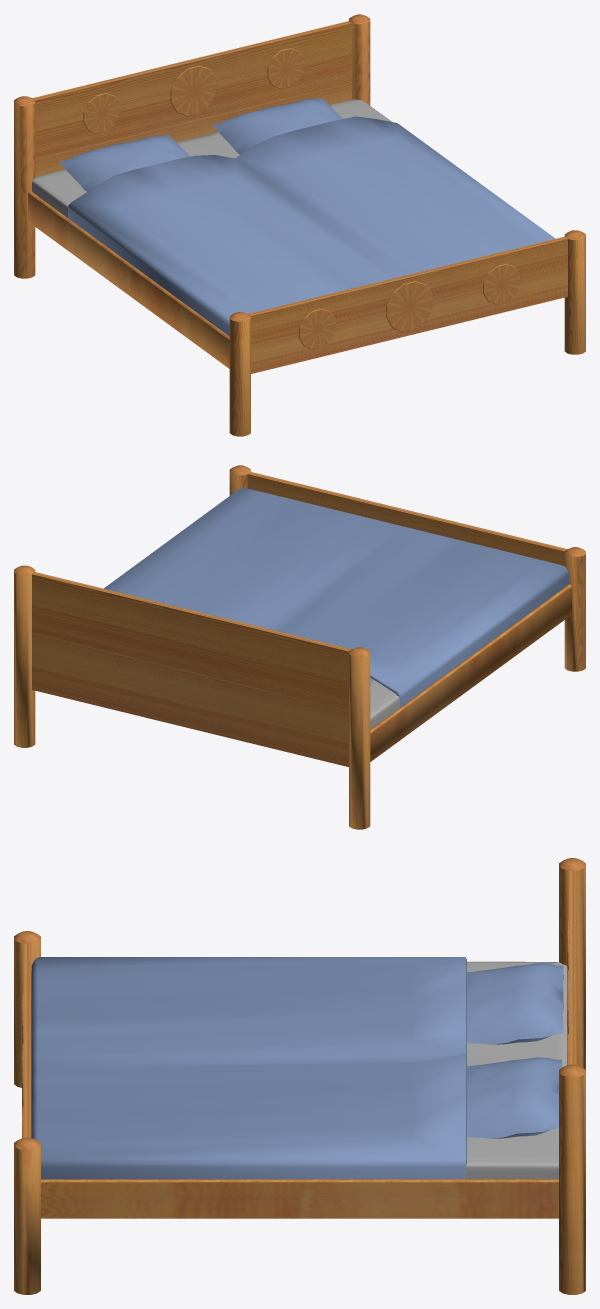
File: bed-double-wood.glb
3 renders of one model, top to bottom at view 1: azimuth 30°, elevation 25°; view 2: azimuth 150°, elevation 25°; view 3: azimuth 270°, elevation 25°, orthographic. The views are drawn at different scales.
Parts seen in each view (by area): view 1: symbol; view 2: symbol; view 3: symbol.
Part boxes in pixels (box(x1,y1,x2,y2)): symbol: box(14, 14, 585, 436); symbol: box(14, 465, 585, 829); symbol: box(14, 858, 585, 1294).
Size of the model in its own units: 1.92 by 0.915 by 2.13.
Materials: 8 (4 with a texture image).
